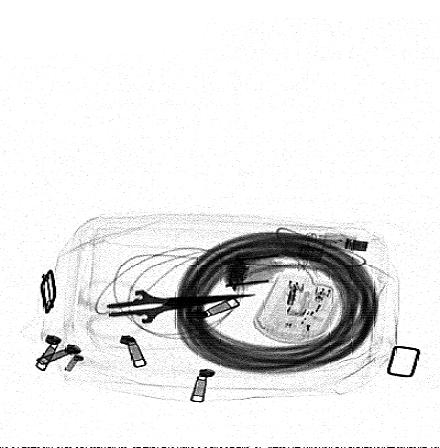Scissors: (68, 278, 261, 342)
